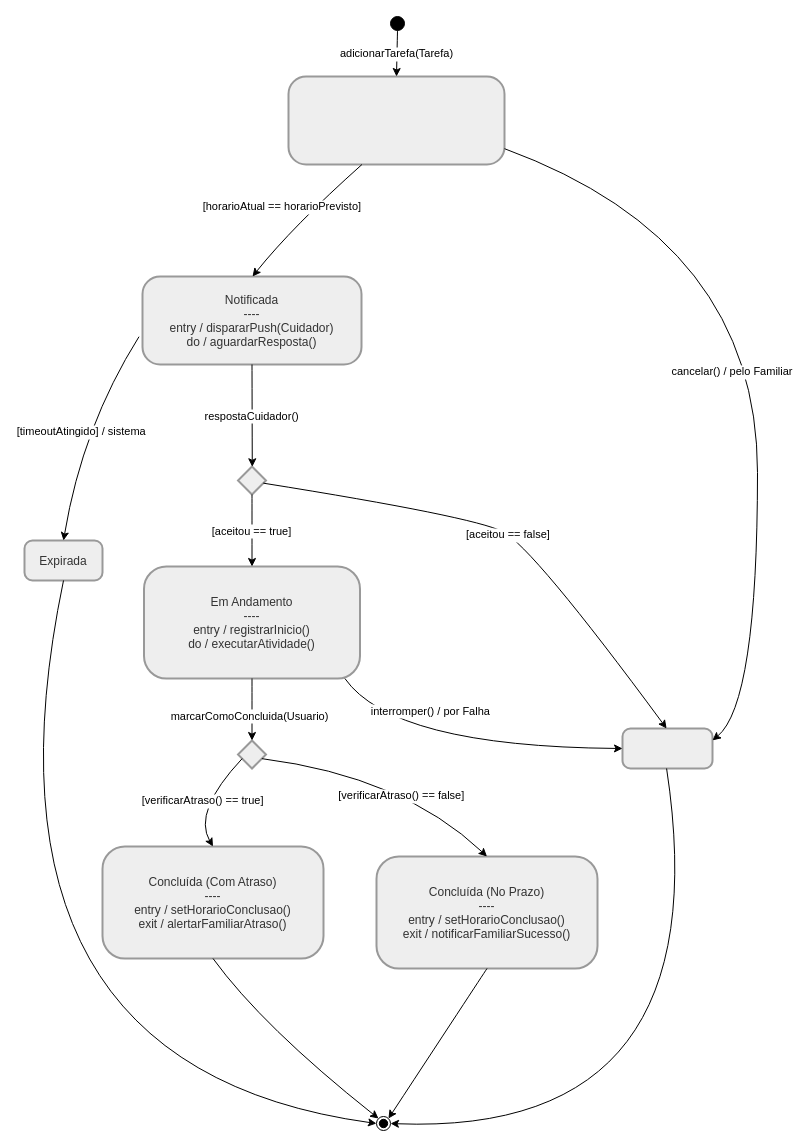
Some shapes in this 811 by 1147 pixel diagram are drawn without their labels. The box of each missing label's shape, as (x1, y1, x2, y2) in pixels:
Agendada ---- entry / persistirNoBanco() do / aguardarHorarioPrevisto(): (287, 75, 505, 165)
Cancelada: (621, 727, 713, 769)
